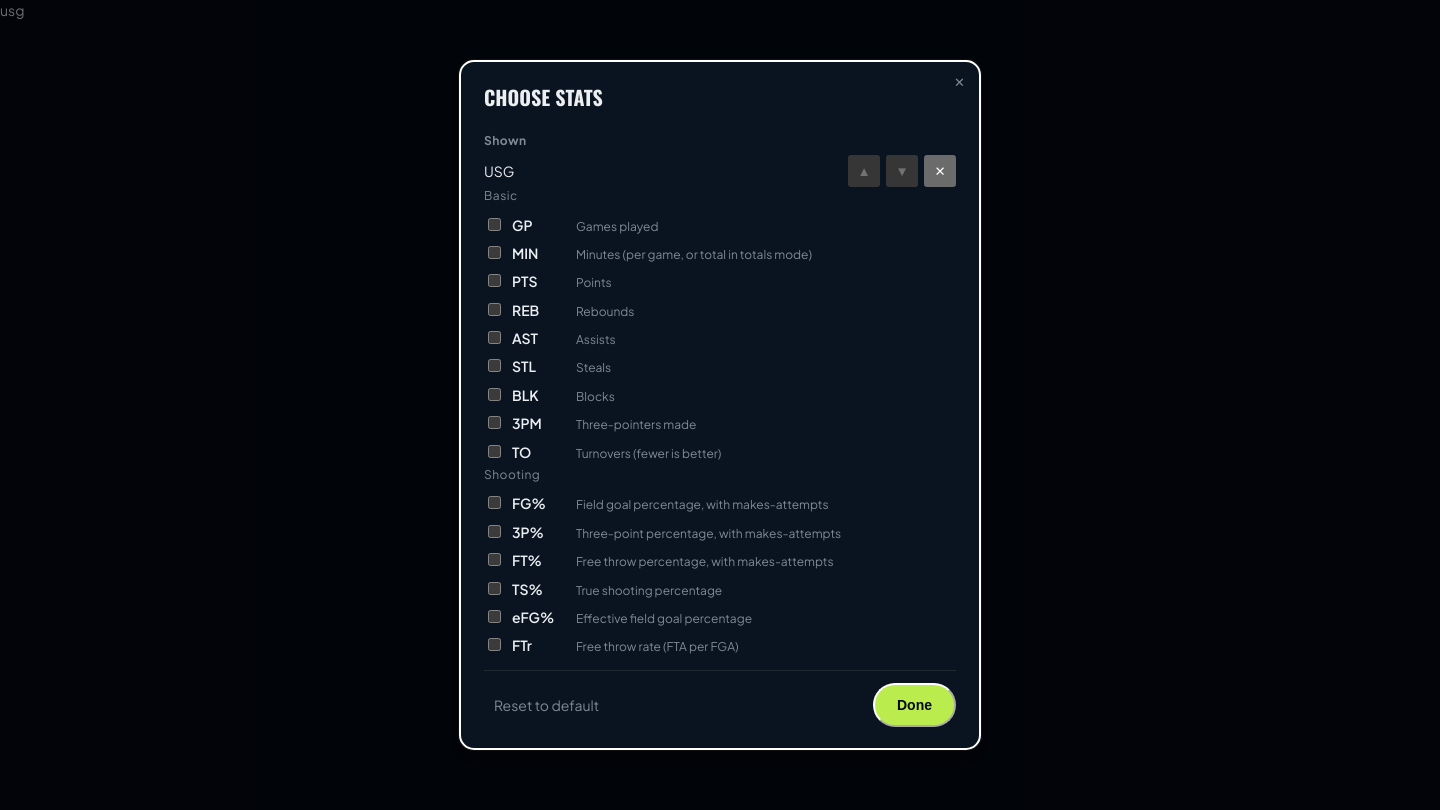
Test: StatPickerModal (spec 023 US2) › resets to the default columns
The width and height of the screenshot is (1440, 810).
Step 1. Click the button "Reset to default" → (547, 705), box left=484, top=690, right=609, bottom=720
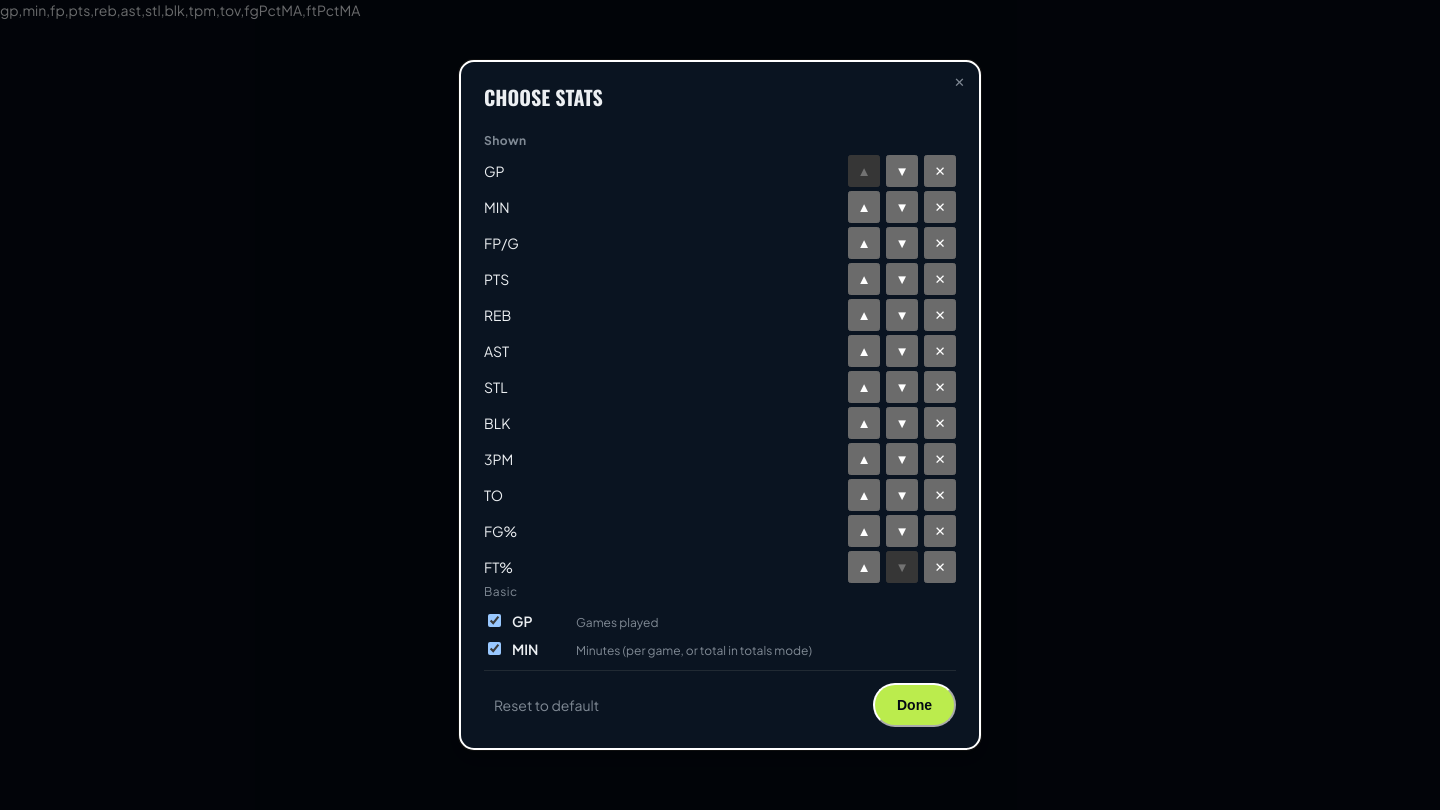
Check: the text with test id "cols" shows "gp,min,fp,", box left=0, top=1, right=360, bottom=19
